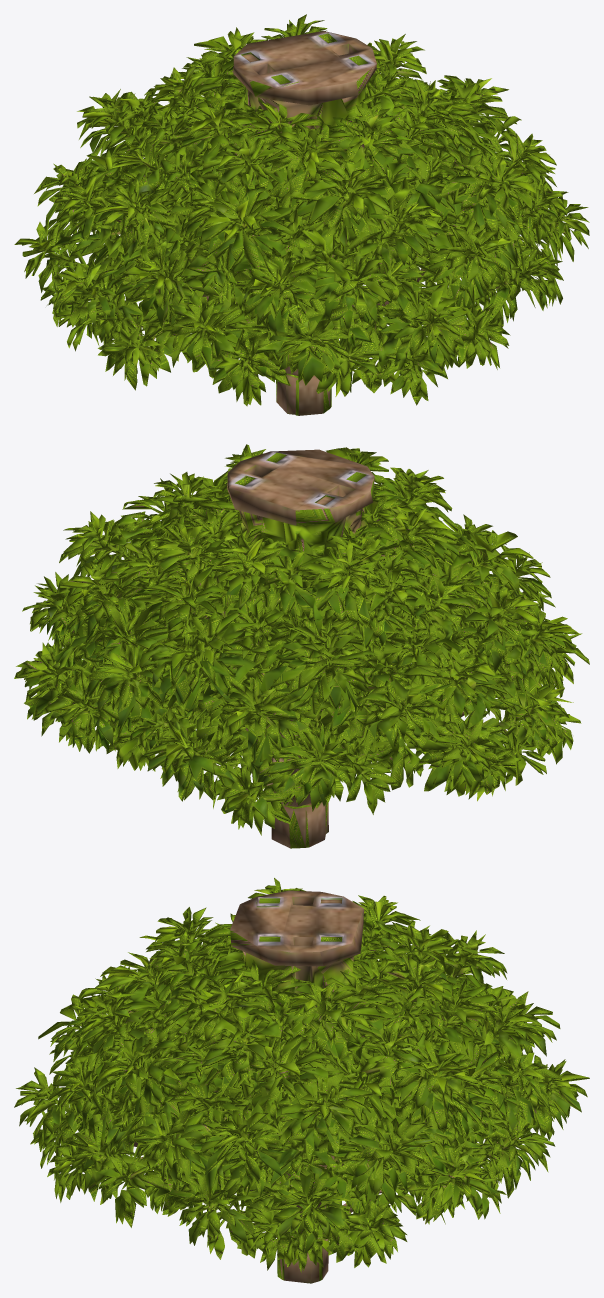
The model's file is tree_crown.glb.
The picture shows the model from 3 angles, top to bottom: view 1: azimuth 30°, elevation 25°; view 2: azimuth 150°, elevation 25°; view 3: azimuth 270°, elevation 25°; orthographic projection. The views are drawn at different scales.
Bounding box in the file's own units: 1.9 × 1.25 × 1.85.
Materials: 1 (1 with a texture image).
